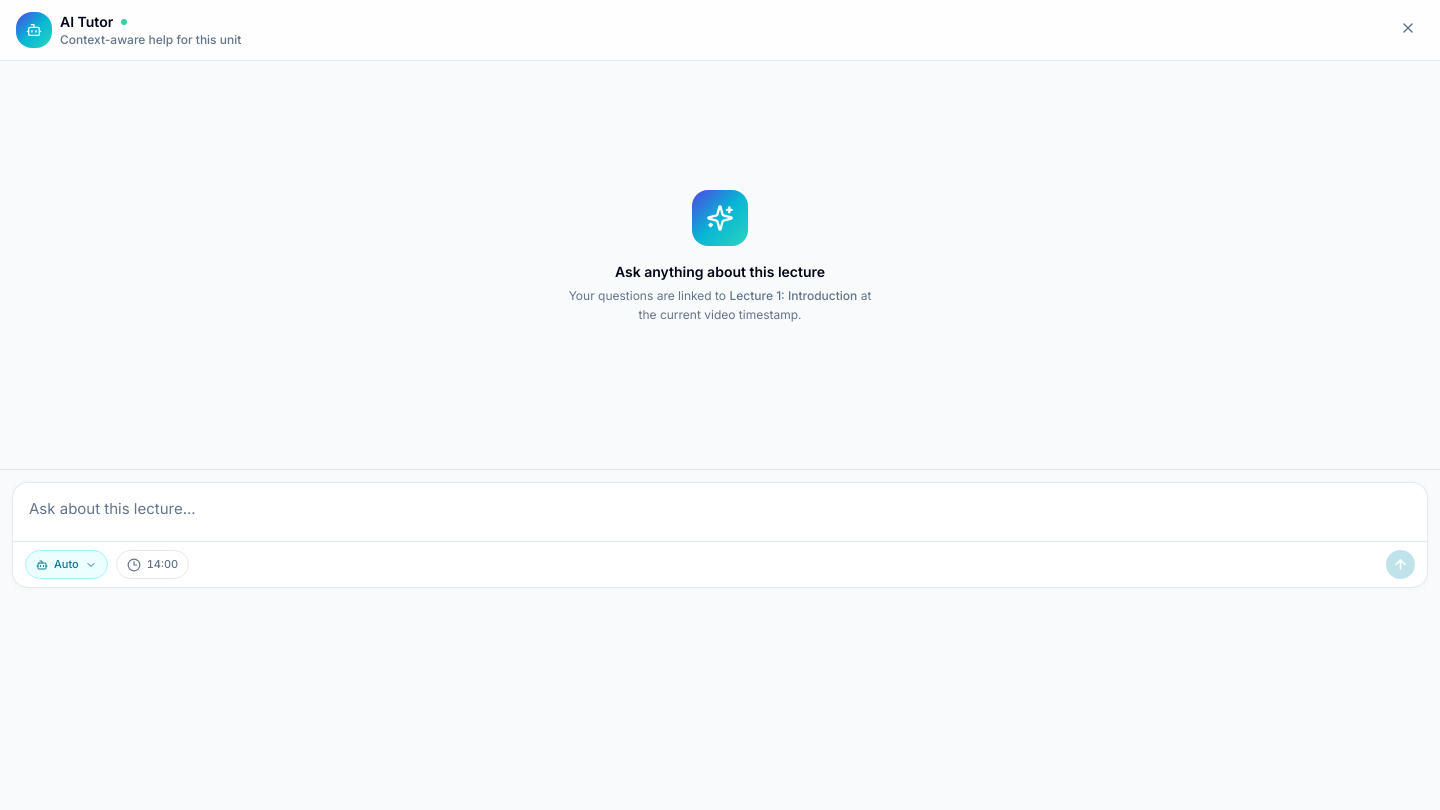
Test: InContextTutor › passes the selected tutor chat model in ask requests
Click the button with aria-label "Tutor model:" at [66, 564], box [25, 550, 108, 579]
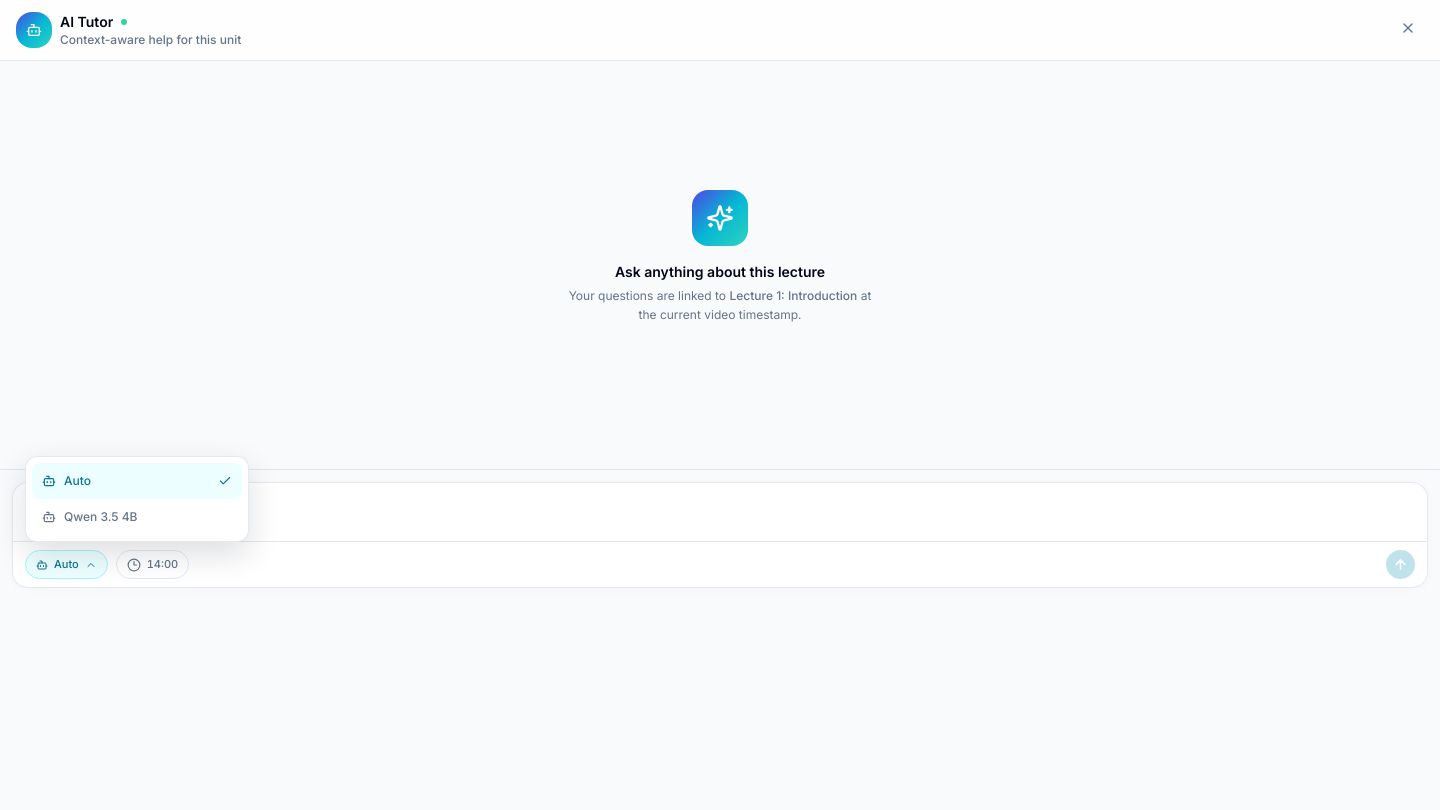
Click the menu item "Qwen 3.5 4B" at [137, 517], box [32, 499, 242, 535]
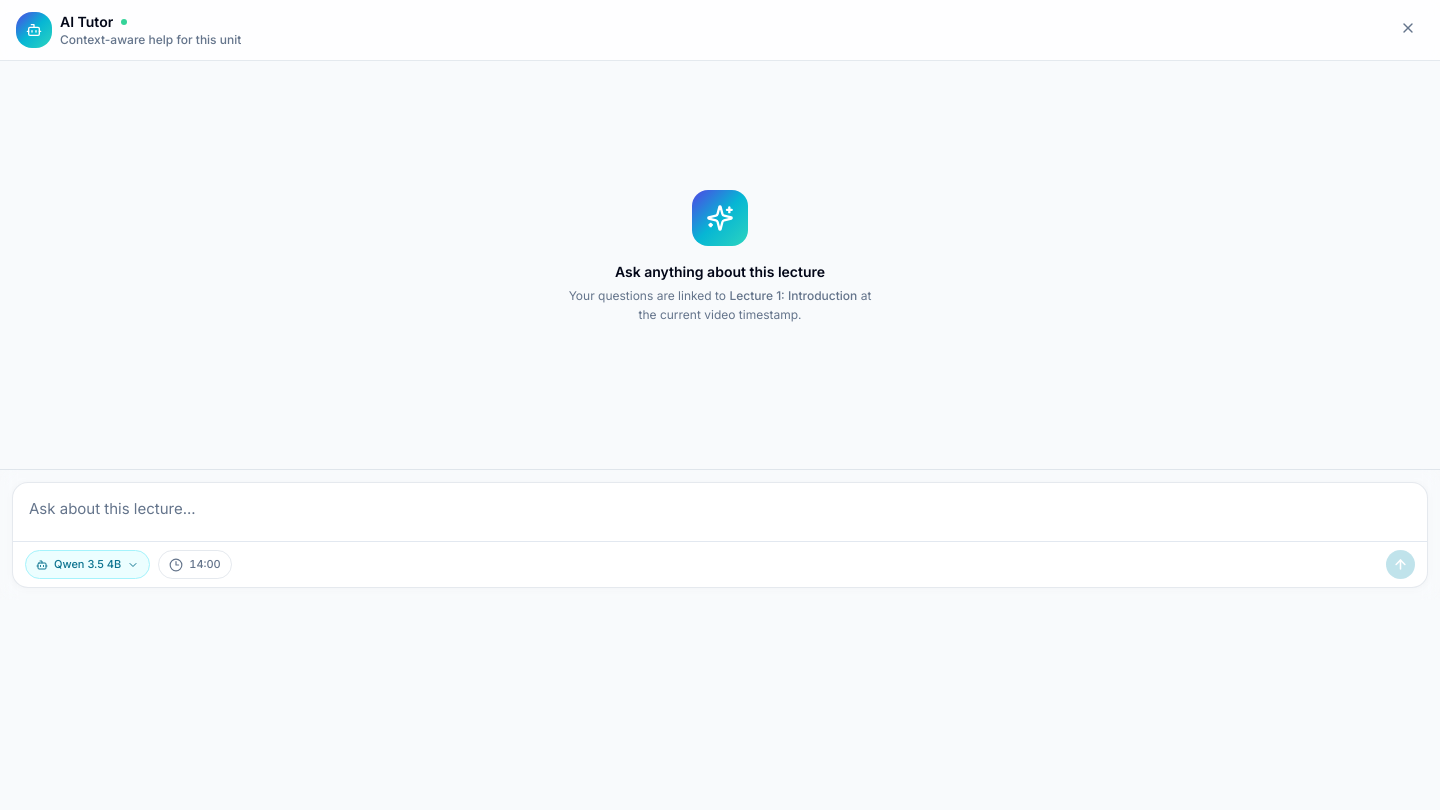
Type "Explain the slide." into the text box with placeholder "Ask about this lecture..." at [720, 509], box [13, 483, 1427, 535]
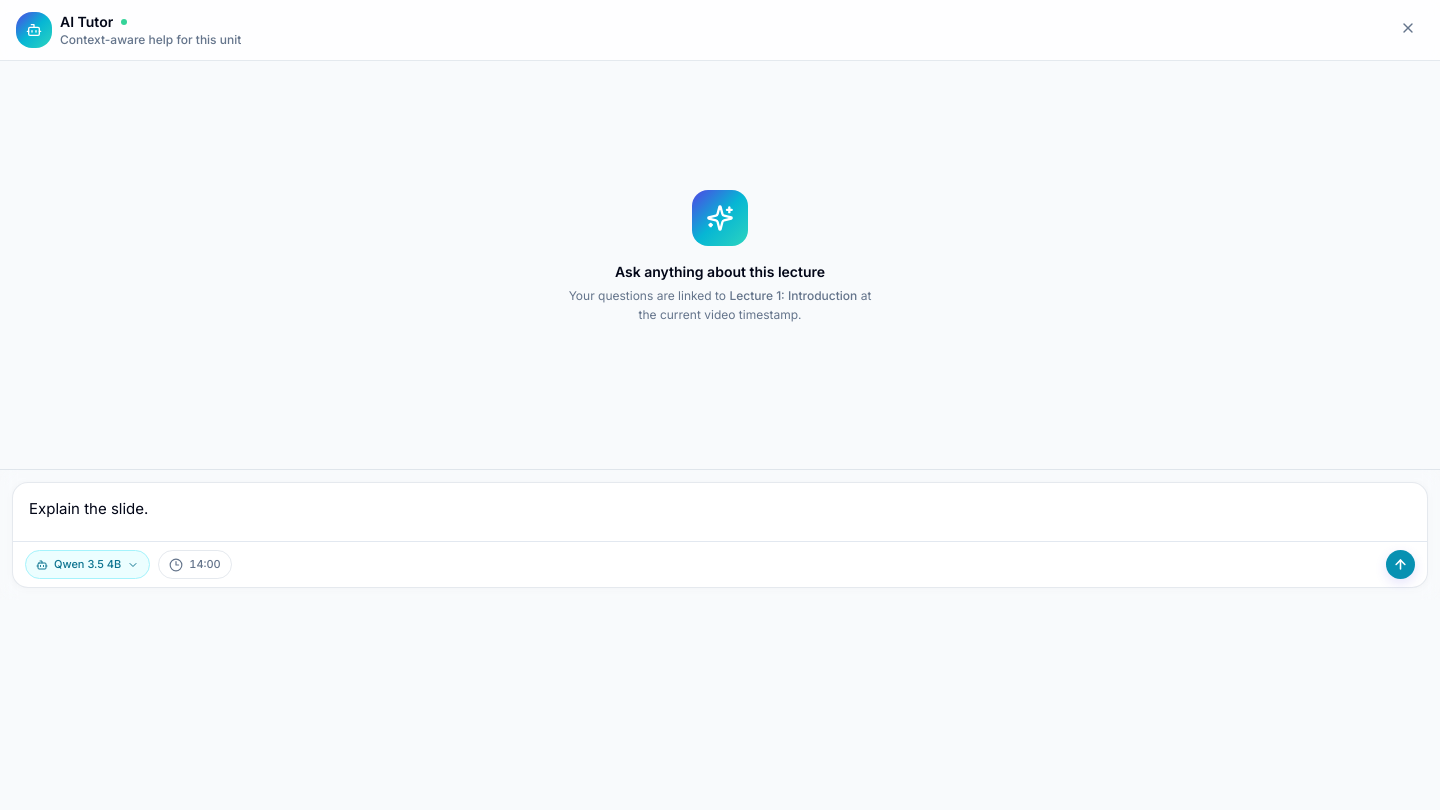
Click the button named "Send question" at [1400, 564], box [1386, 550, 1415, 579]
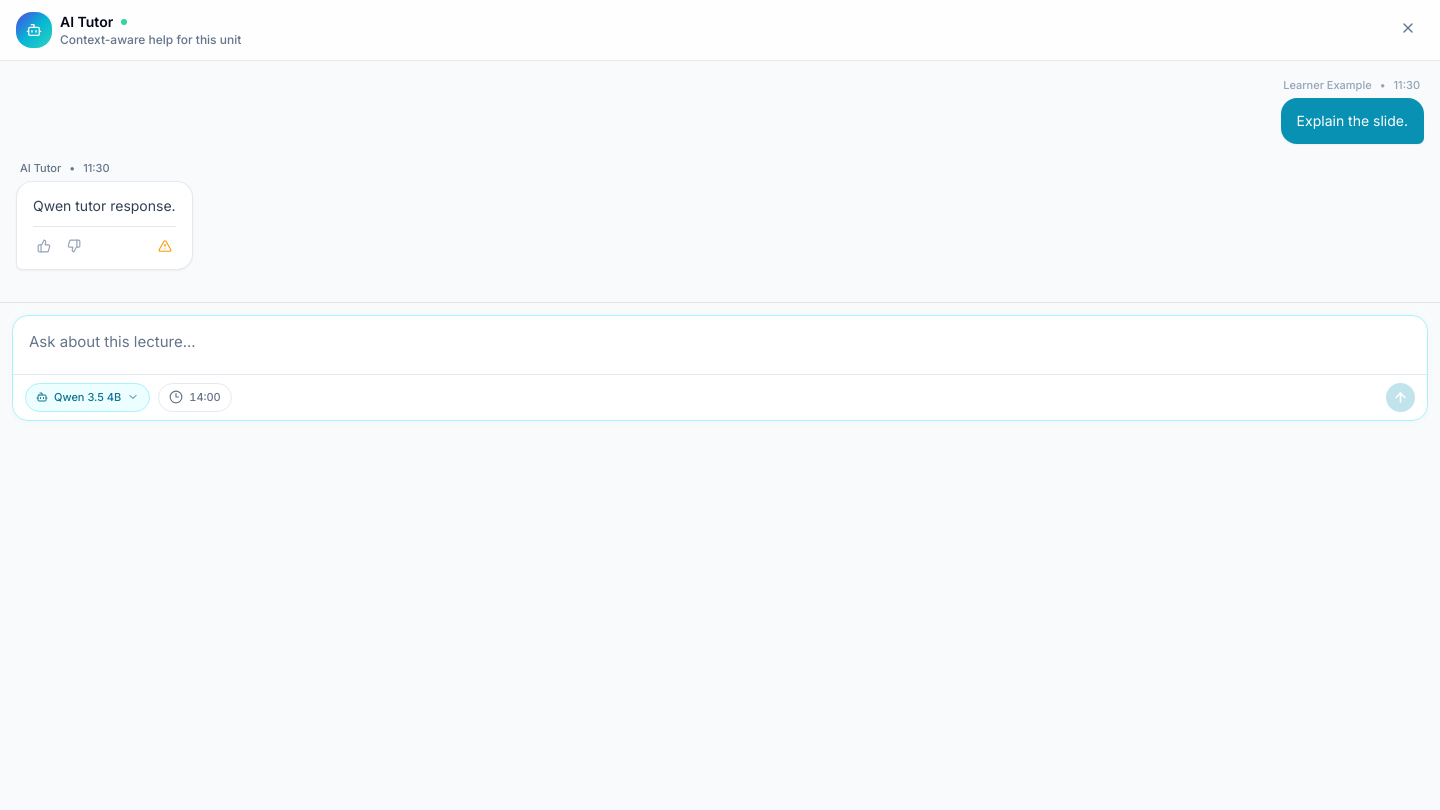
Check: the text "Qwen tutor response." is shown, box [33, 194, 176, 218]
